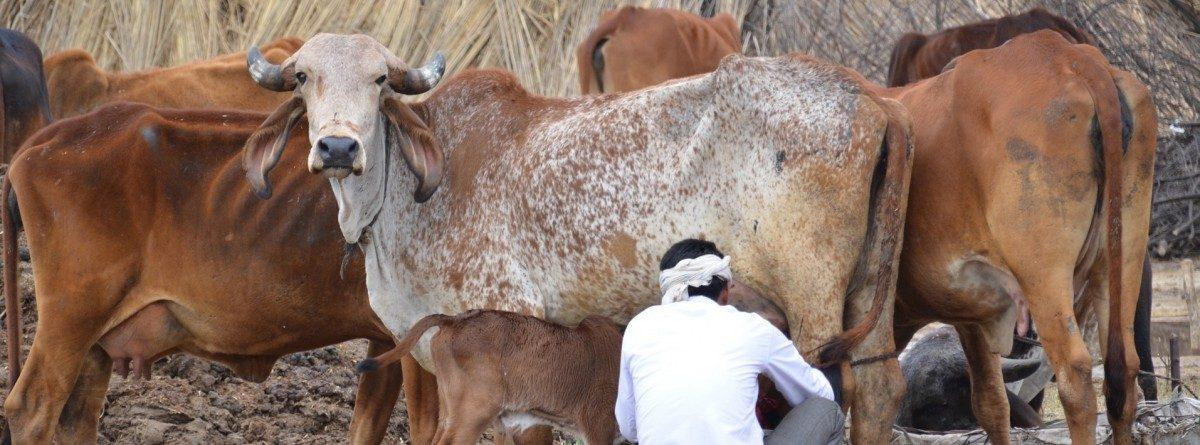cow: (0, 6, 1156, 444)
